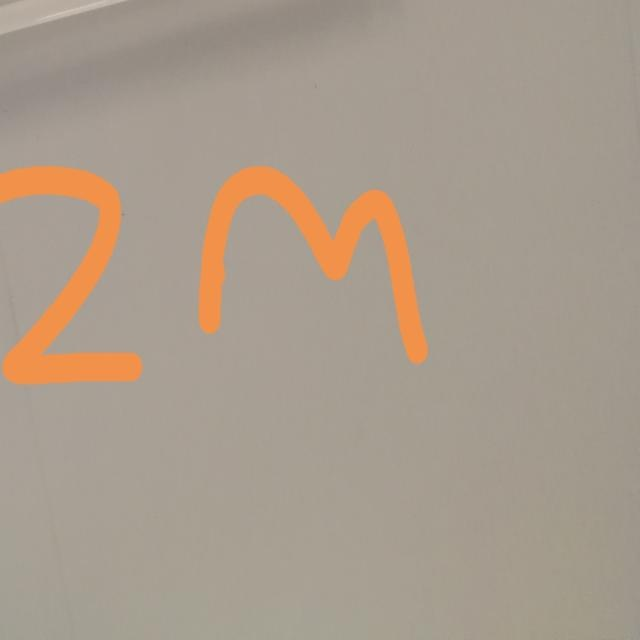fluorescent tube: (0, 0, 405, 201)
